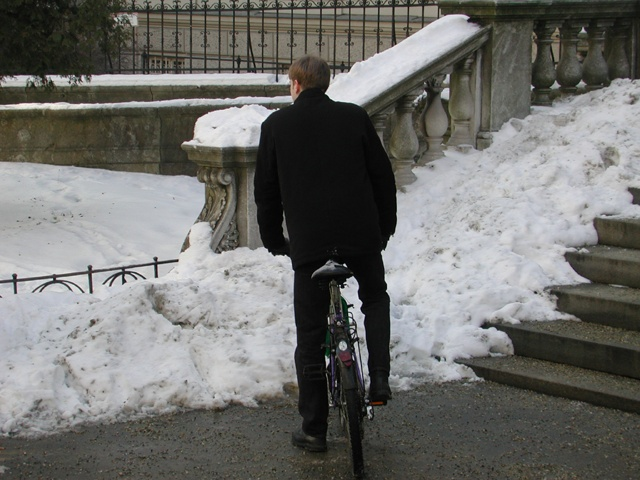person: (258, 61, 400, 452)
